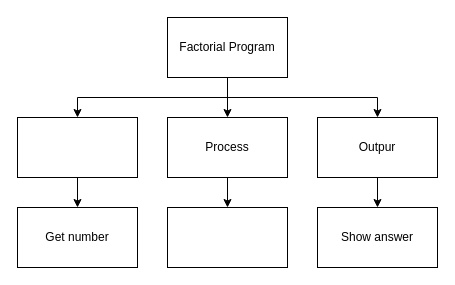
This 455x285 diagram has some shape labels left out. Here are the shapes that lost their labels. From the top down, the centre of each, then its label:
At point (77, 147): "Input".
At point (227, 237): "Calculate factorial with while loop".
